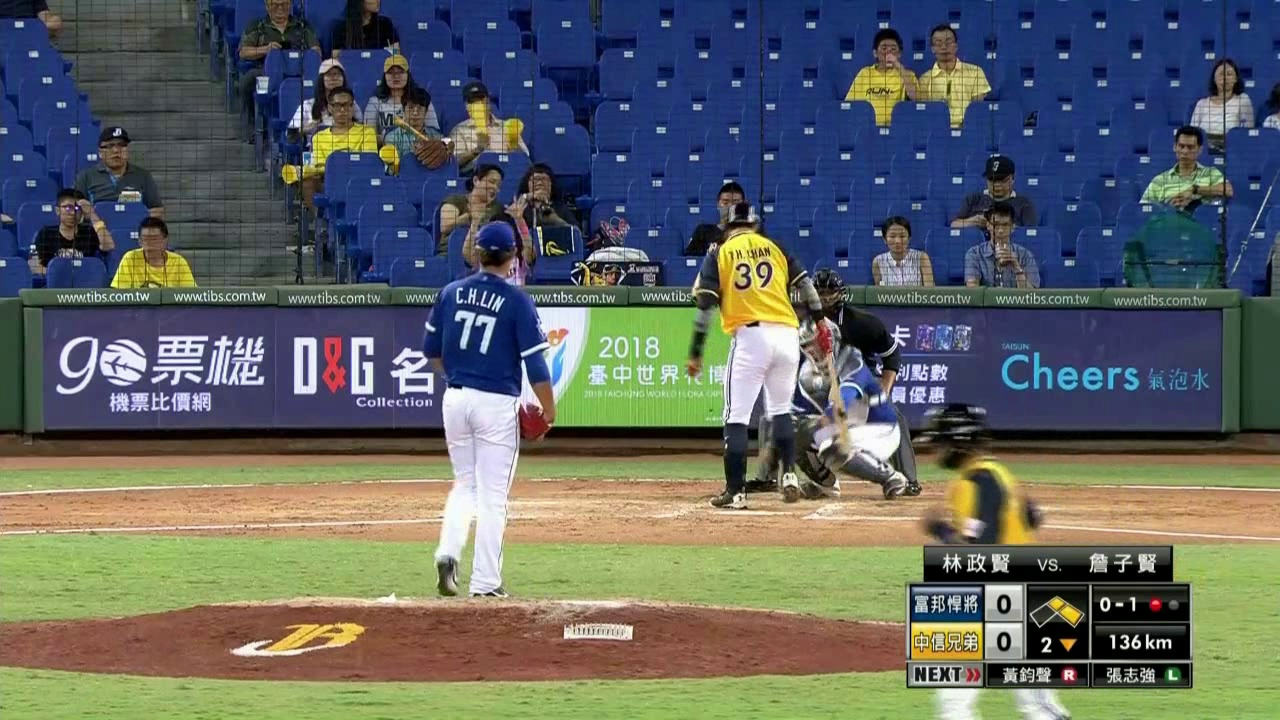base: (1028, 590, 1085, 628)
bat: (825, 345, 856, 458)
out: (1146, 587, 1190, 619)
score1: (987, 588, 1020, 616)
score2: (987, 626, 1023, 658)
session: (1028, 629, 1086, 660)
speed: (1091, 625, 1185, 660)
strikeball: (1092, 588, 1145, 622)
